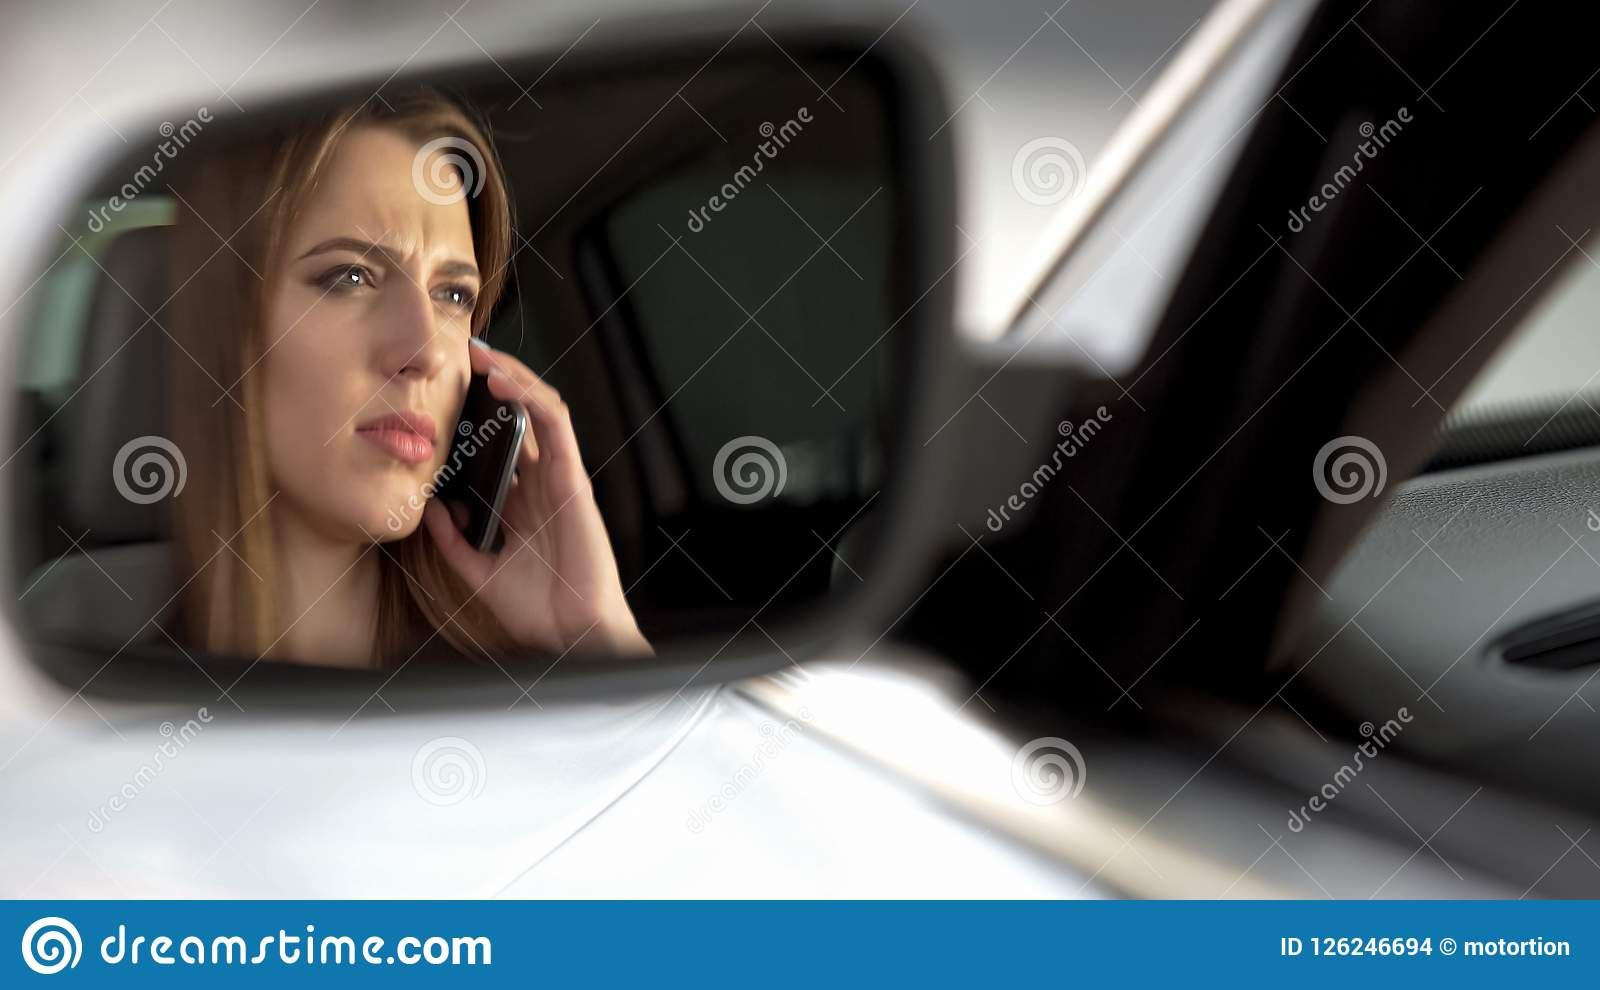phone: (443, 356, 529, 554)
talk: (283, 211, 643, 655)
